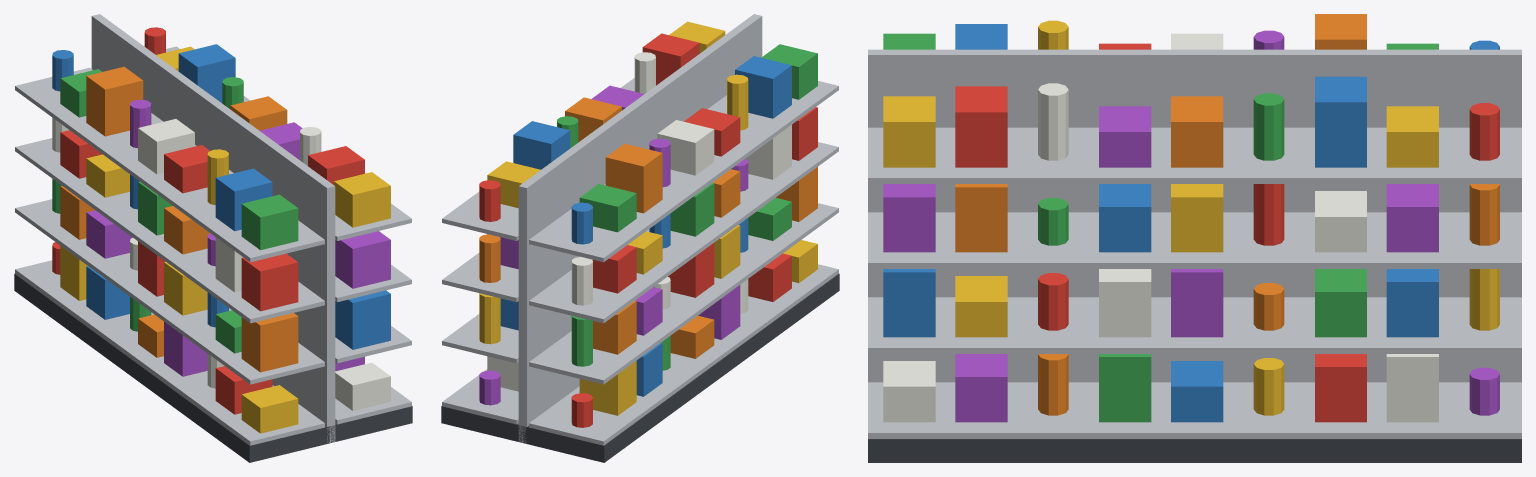
The model's file is gondola.glb.
3 renders of one model, left to right at view 1: azimuth 30°, elevation 25°; view 2: azimuth 150°, elevation 25°; view 3: azimuth 270°, elevation 25°, orthographic. The views are drawn at different scales.
Visible parts, largest first — view 1: product, shelf_gondola_metal, spine_gondola_metal, base_gondola_base; view 2: product, shelf_gondola_metal, spine_gondola_metal, base_gondola_base; view 3: product, shelf_gondola_metal, spine_gondola_metal, base_gondola_base.
Boxes of the visible parts, x1,y1,x2,y2 form: product: (52,27,390,433); shelf_gondola_metal: (15,46,411,445); spine_gondola_metal: (91,14,335,443); base_gondola_base: (14,273,412,462); product: (479,21,817,427); shelf_gondola_metal: (442,78,838,445); spine_gondola_metal: (518,14,762,443); base_gondola_base: (441,273,839,462); product: (883,14,1499,422); shelf_gondola_metal: (868,127,1521,438); spine_gondola_metal: (868,49,1521,382); base_gondola_base: (868,439,1521,462).
Size of the model in its own units: 1.2 by 1.8 by 3.
